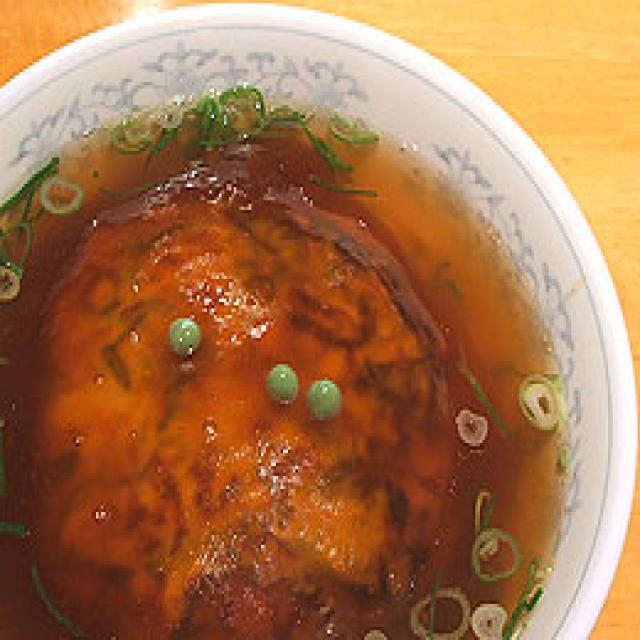面条主食: (0, 121, 564, 640)
